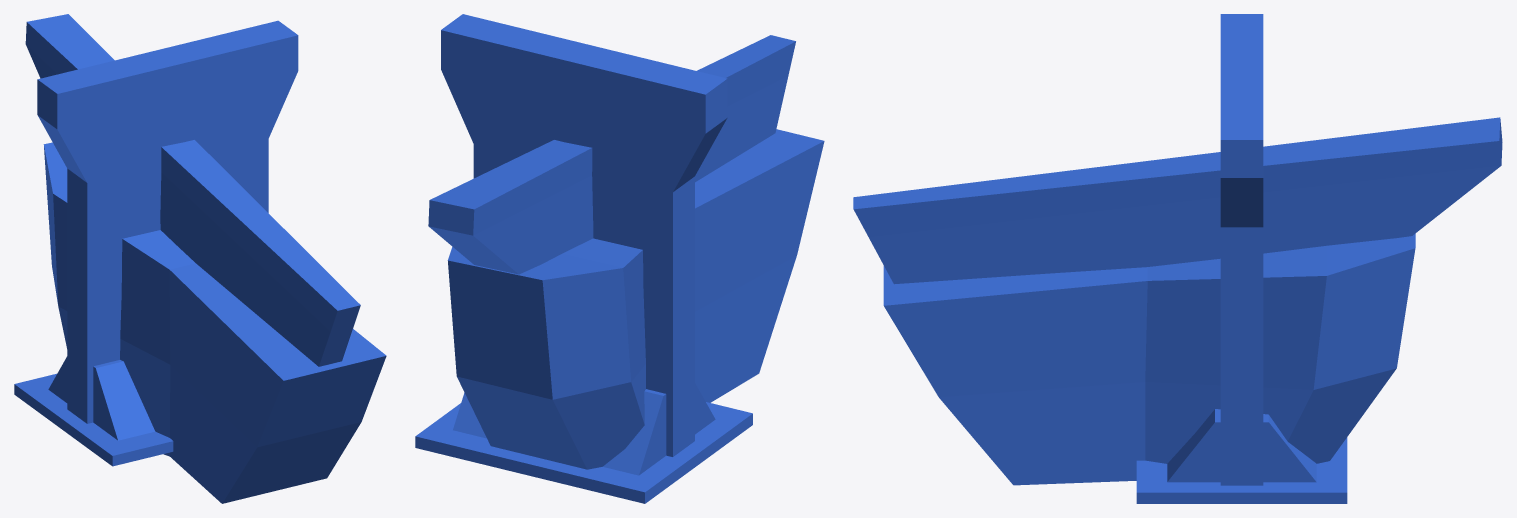
File: Collision_Bellows.fbx
The picture shows the model from 3 angles, left to right: view 1: azimuth 30°, elevation 25°; view 2: azimuth 150°, elevation 25°; view 3: azimuth 270°, elevation 25°; orthographic projection. The views are drawn at different scales.
Visible parts, largest first — view 1: UCX_Bellows_4, UCX_Bellows_2, UCX_Bellows_3, UCX_Bellows_1, UCX_Bellows_5, UCX_Bellows_6; view 2: UCX_Bellows_4, UCX_Bellows_1, UCX_Bellows_2, UCX_Bellows_3, UCX_Bellows_5, UCX_Bellows_6; view 3: UCX_Bellows_3, UCX_Bellows_2, UCX_Bellows_1, UCX_Bellows_4, UCX_Bellows_5, UCX_Bellows_6.
Part boxes in pixels (box(x1,y1,x2,y2)): UCX_Bellows_4: box(37, 20, 298, 423); UCX_Bellows_2: box(169, 263, 386, 503); UCX_Bellows_3: box(25, 14, 360, 366); UCX_Bellows_1: box(43, 142, 195, 456); UCX_Bellows_5: box(14, 373, 173, 466); UCX_Bellows_6: box(48, 356, 155, 440); UCX_Bellows_4: box(441, 14, 727, 456); UCX_Bellows_1: box(447, 238, 645, 469); UCX_Bellows_2: box(695, 129, 824, 402); UCX_Bellows_3: box(428, 35, 795, 274); UCX_Bellows_5: box(415, 402, 752, 503); UCX_Bellows_6: box(453, 383, 715, 475); UCX_Bellows_3: box(853, 117, 1502, 284); UCX_Bellows_2: box(883, 266, 1147, 485); UCX_Bellows_1: box(1145, 233, 1415, 463); UCX_Bellows_4: box(1220, 14, 1263, 485); UCX_Bellows_5: box(1136, 437, 1347, 503); UCX_Bellows_6: box(1167, 409, 1316, 482).
Bounding box in the file's own units: 86.84 × 123 × 189.
